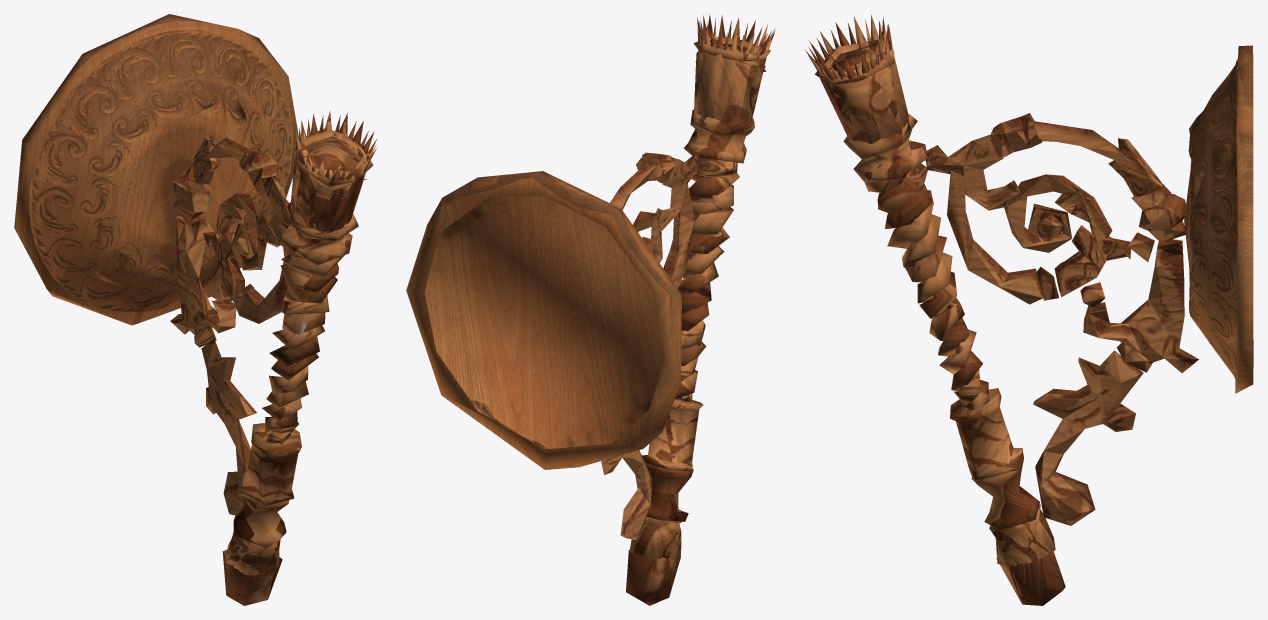
Rendered from Antorcha2.obj.
3 renders of one model, left to right at view 1: azimuth 30°, elevation 25°; view 2: azimuth 150°, elevation 25°; view 3: azimuth 270°, elevation 25°, orthographic. The views are drawn at different scales.
Parts seen in each view (by area): view 1: Mashal_MMM:Group63307.002; view 2: Mashal_MMM:Group63307.002; view 3: Mashal_MMM:Group63307.002.
Boxes of the visible parts, x1=… form: Mashal_MMM:Group63307.002: x1=14, y1=14, x2=377, y2=605; Mashal_MMM:Group63307.002: x1=406, y1=14, x2=775, y2=605; Mashal_MMM:Group63307.002: x1=805, y1=14, x2=1253, y2=605.
Bounding box in the file's own units: 0.9414 × 1.73 × 1.22.
3 materials, 3 textured.
